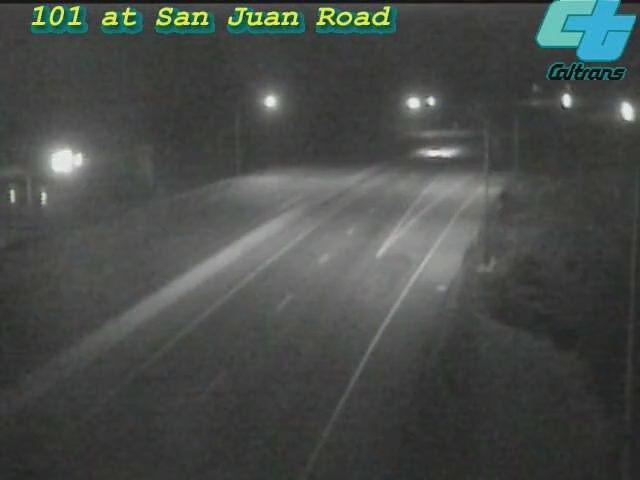vehicle: (413, 128, 463, 178), (600, 85, 640, 135)
